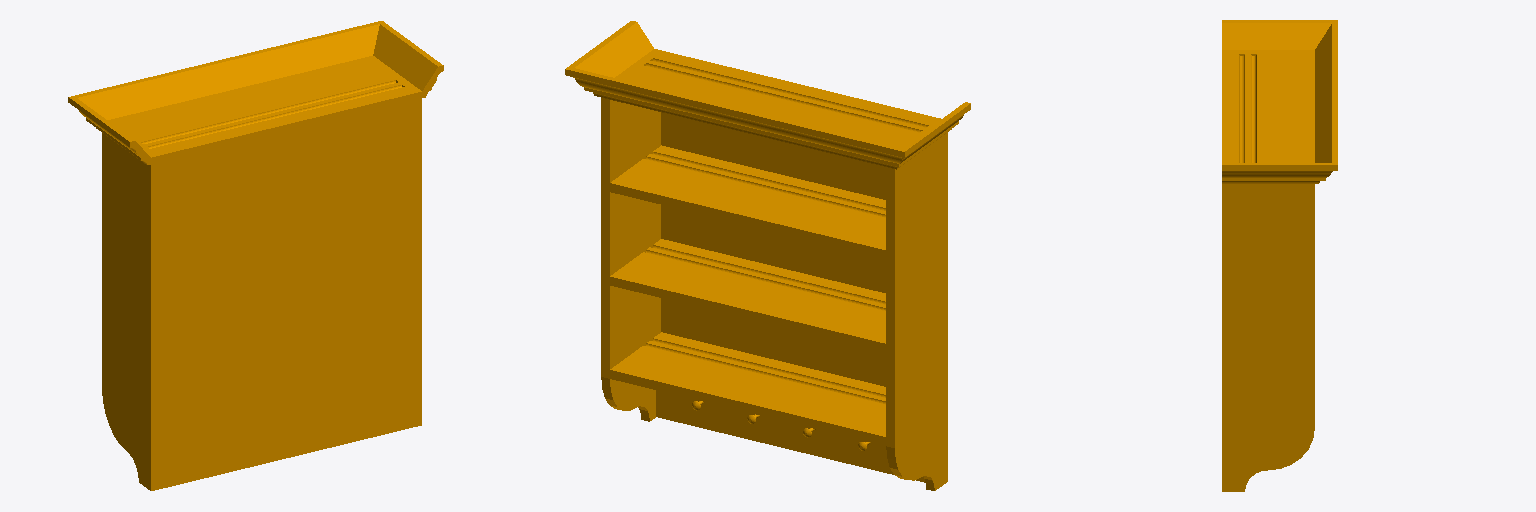
robot.urdf — shelf:
<robot name="shelf">
    <link name="shelf">
        <collision>
            <geometry>
                <mesh filename="shelf.stl" />
            </geometry>
        </collision>
        <visual>
            <geometry>
                <mesh filename="shelf.stl" />
            </geometry>
        </visual>
    </link>
</robot>

--- What the picture shows (computed from the rendered views, not written in the file) ---
3 views of the same robot in one strip: view 1: azimuth 30°, elevation 25°; view 2: azimuth 150°, elevation 25°; view 3: azimuth 270°, elevation 25° (orthographic).
Robot: shelf — 1 links, 0 joints (none); root link shelf; default pose: every joint at zero.
Visible links, largest first — view 1: shelf; view 2: shelf; view 3: shelf.
Boxes of the visible links, box(x1,y1,x2,y2) form: shelf: box(68, 21, 443, 490); shelf: box(565, 21, 970, 490); shelf: box(1222, 20, 1337, 491).
Size in the robot's own frame: 1.01 by 0.3408 by 1.09 metres.
Meshes: 1 distinct files referenced, 1 mesh visuals loaded (1 binary STL).